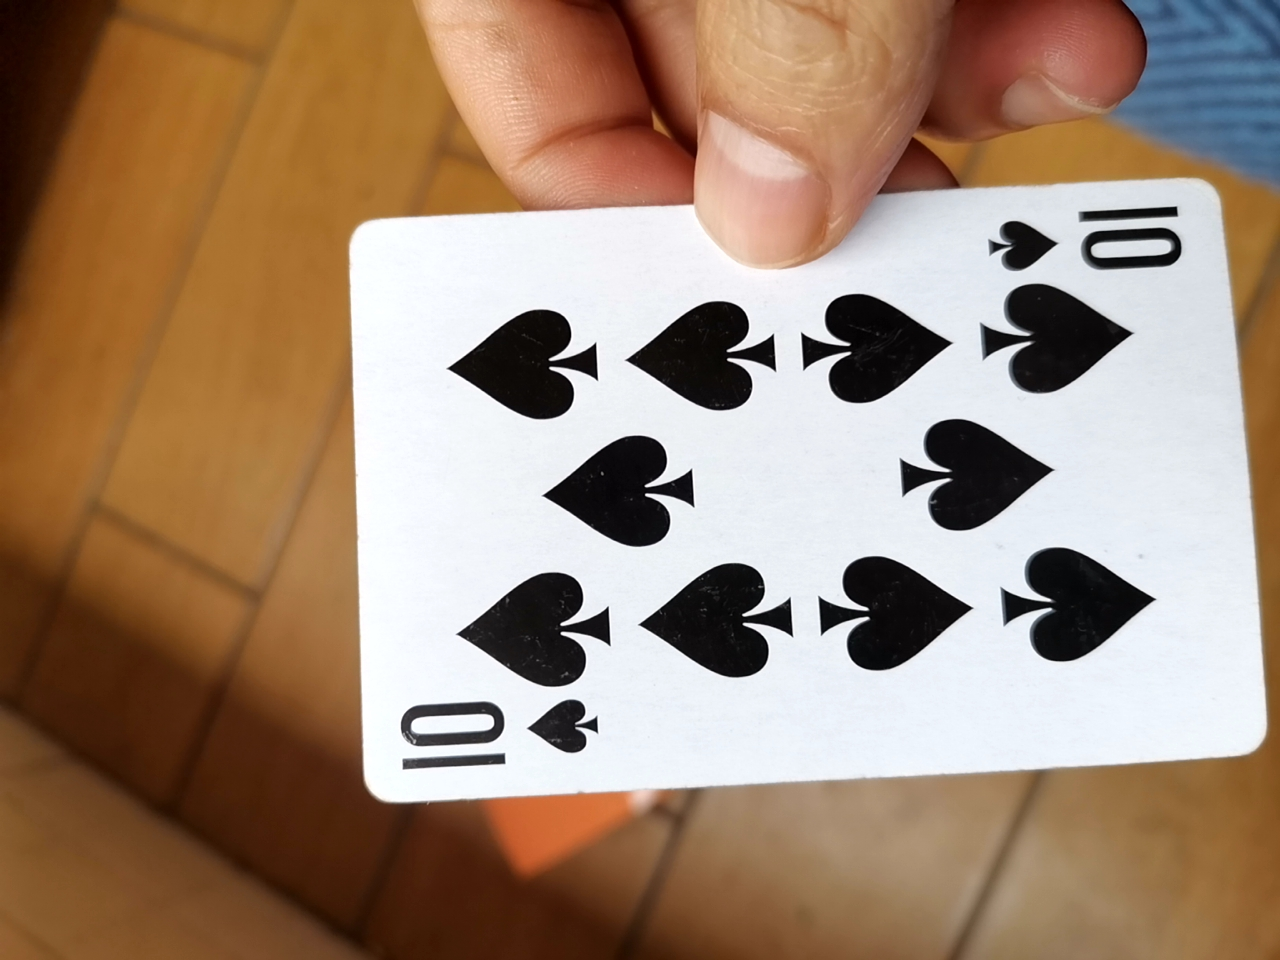ht 10: (315, 173, 1266, 806)
